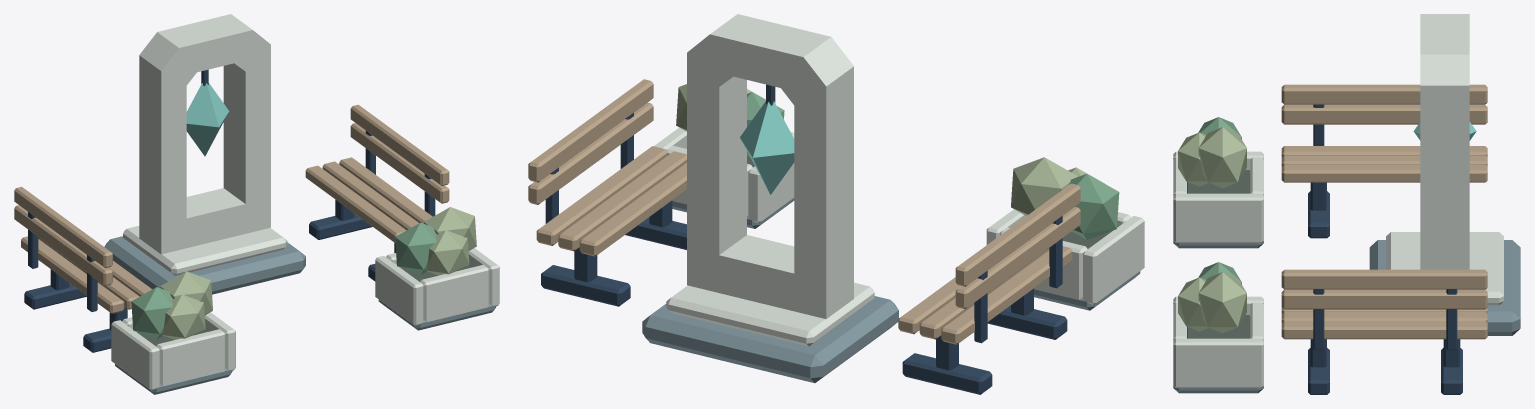
Rendered from campus_civic_decor_v01.glb.
3 views of the same model, side by side, from view 1: azimuth 30°, elevation 25°; view 2: azimuth 150°, elevation 25°; view 3: azimuth 270°, elevation 25° (orthographic). The views are drawn at different scales.
Visible parts, largest first — view 1: campus_civic_decor; view 2: campus_civic_decor; view 3: campus_civic_decor.
Boxes of the visible parts, left/top/right/bottom form: campus_civic_decor: left=14, top=14, right=499, bottom=394; campus_civic_decor: left=528, top=14, right=1144, bottom=394; campus_civic_decor: left=1173, top=14, right=1520, bottom=394.
Bounding box in the file's own units: 3.32 × 2.14 × 2.53.
Materials: 1 (1 with a texture image).
